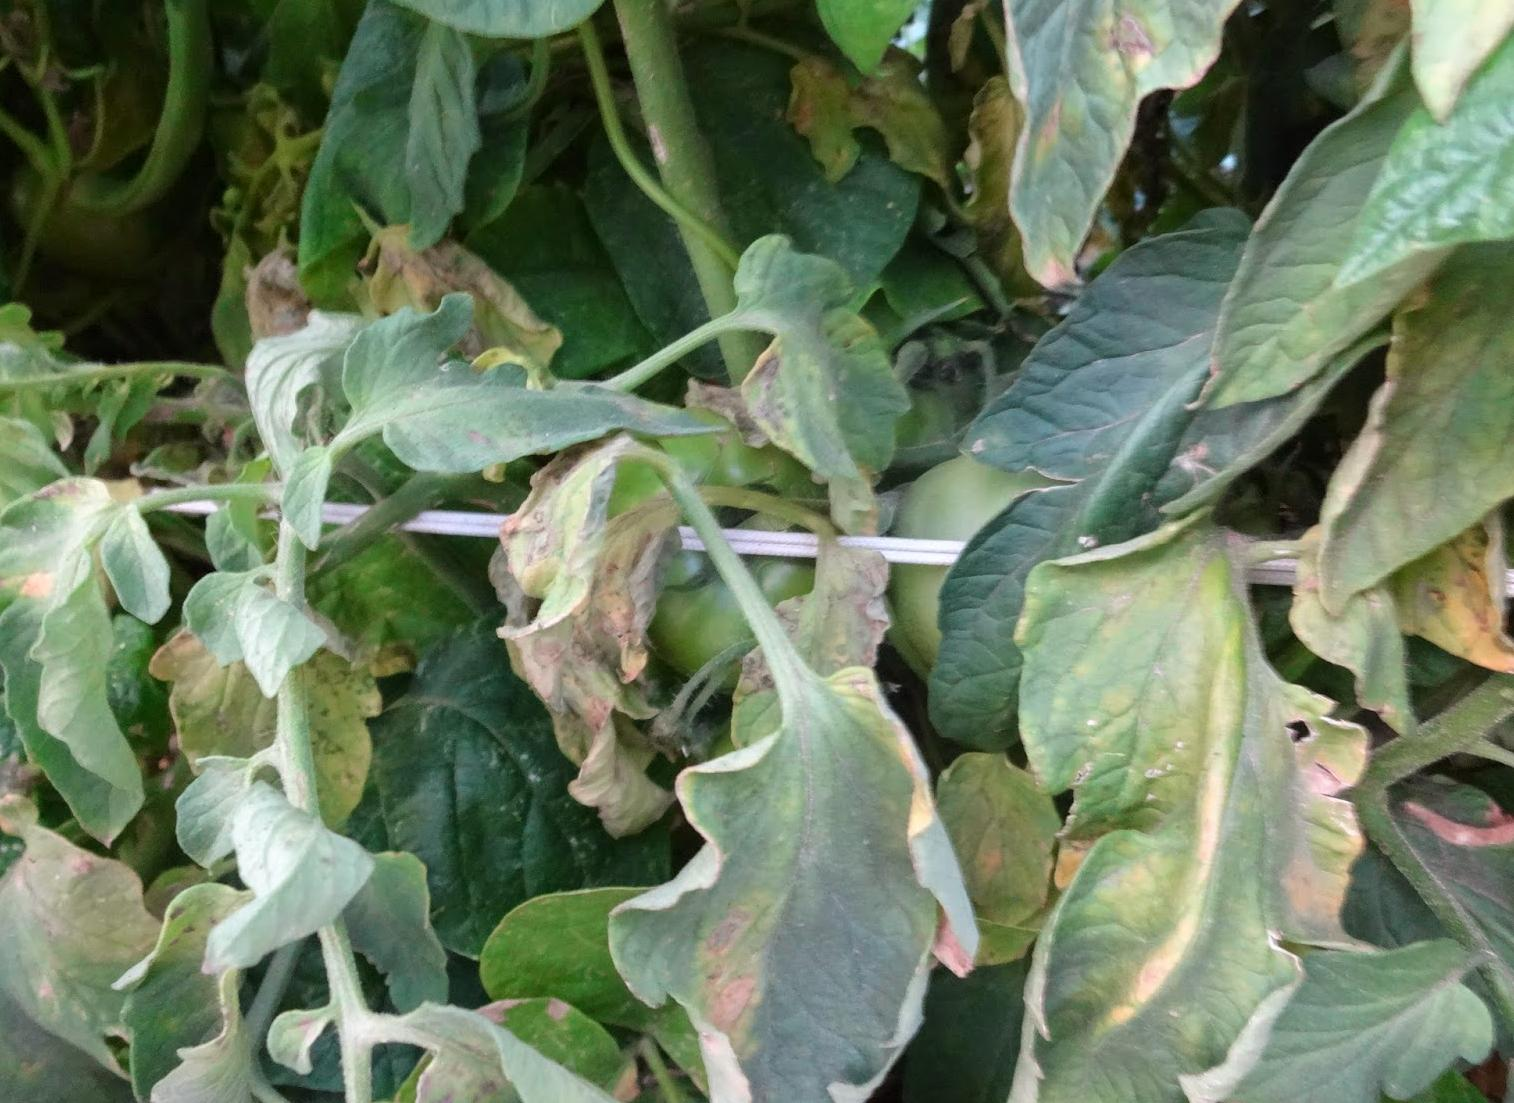Tomato leaf late blight: (616, 616, 971, 1103), (949, 0, 1360, 310), (327, 280, 728, 472), (0, 452, 177, 875), (715, 222, 918, 516)
